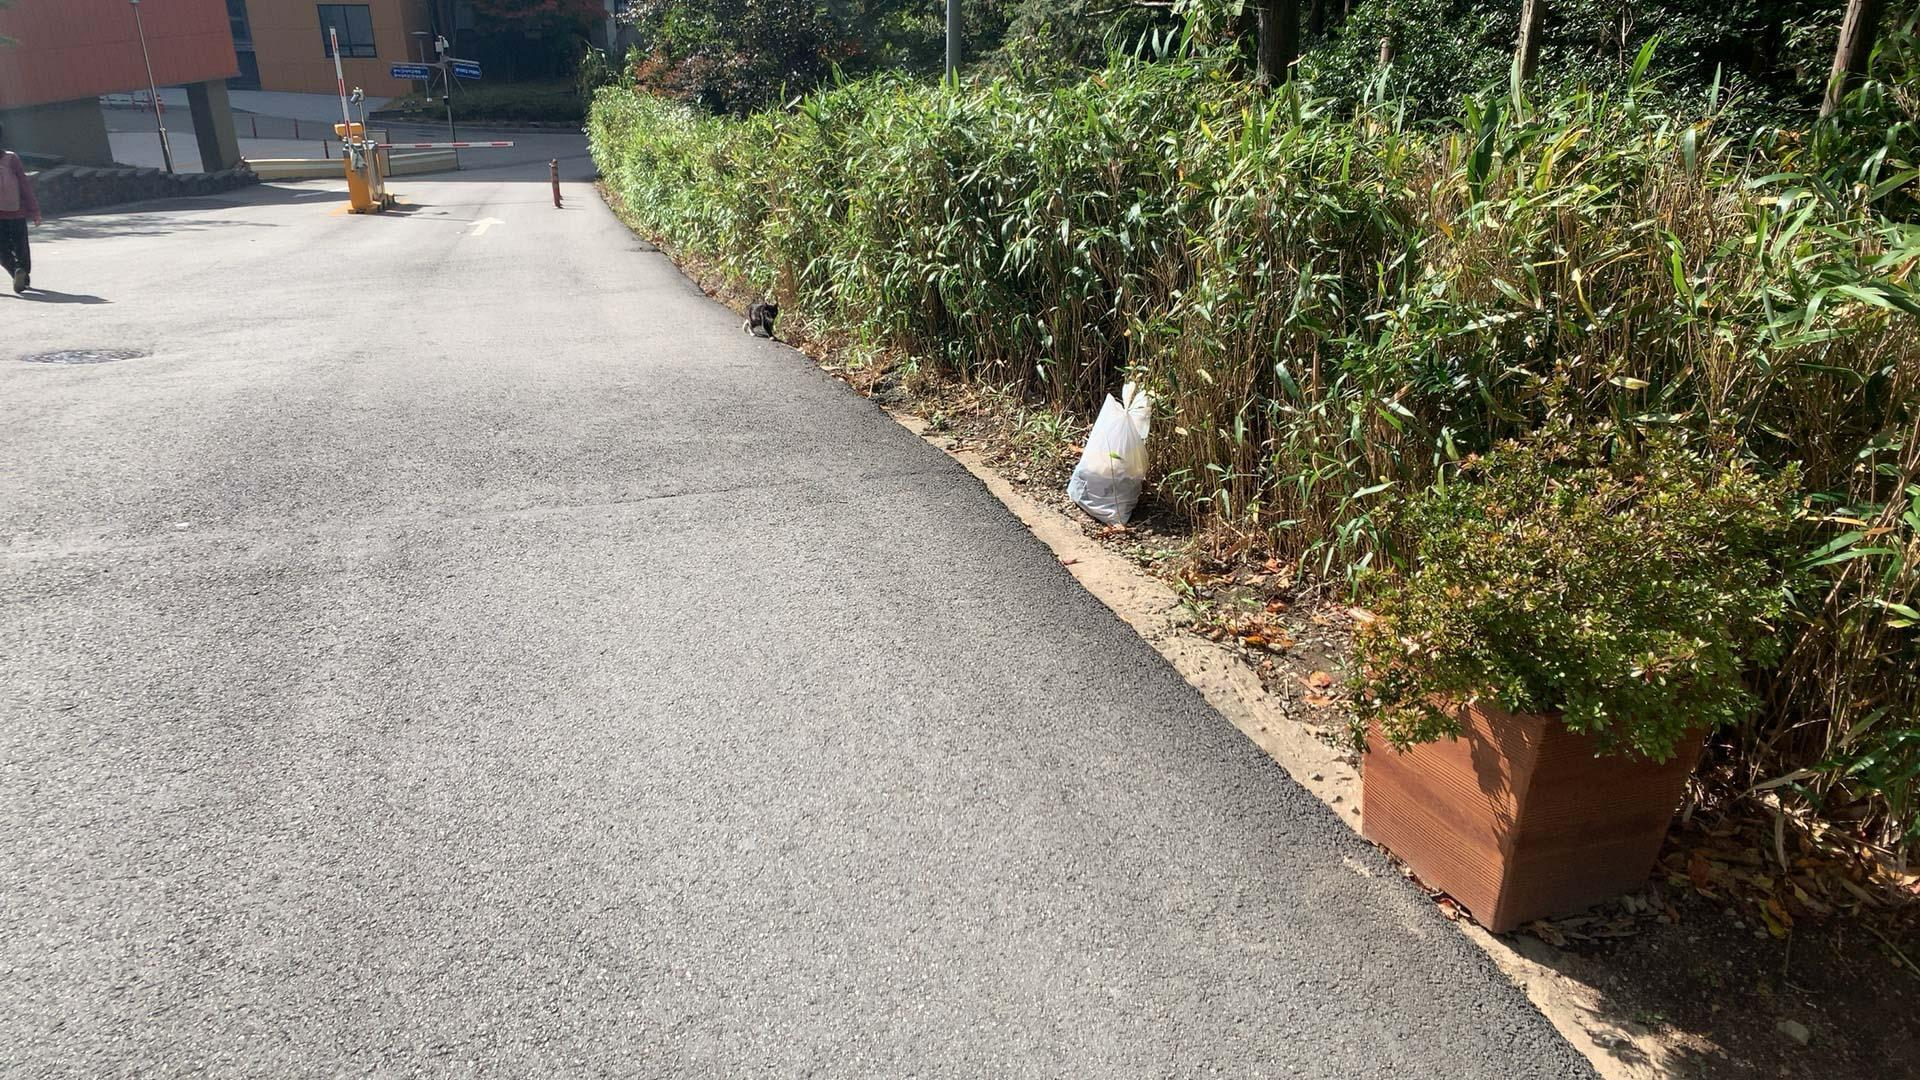white_bag: (1058, 371, 1162, 530)
